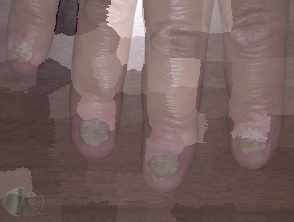Nail_psoriasis: (220, 107, 290, 178), (135, 131, 199, 198), (62, 102, 122, 162), (0, 30, 51, 81)
